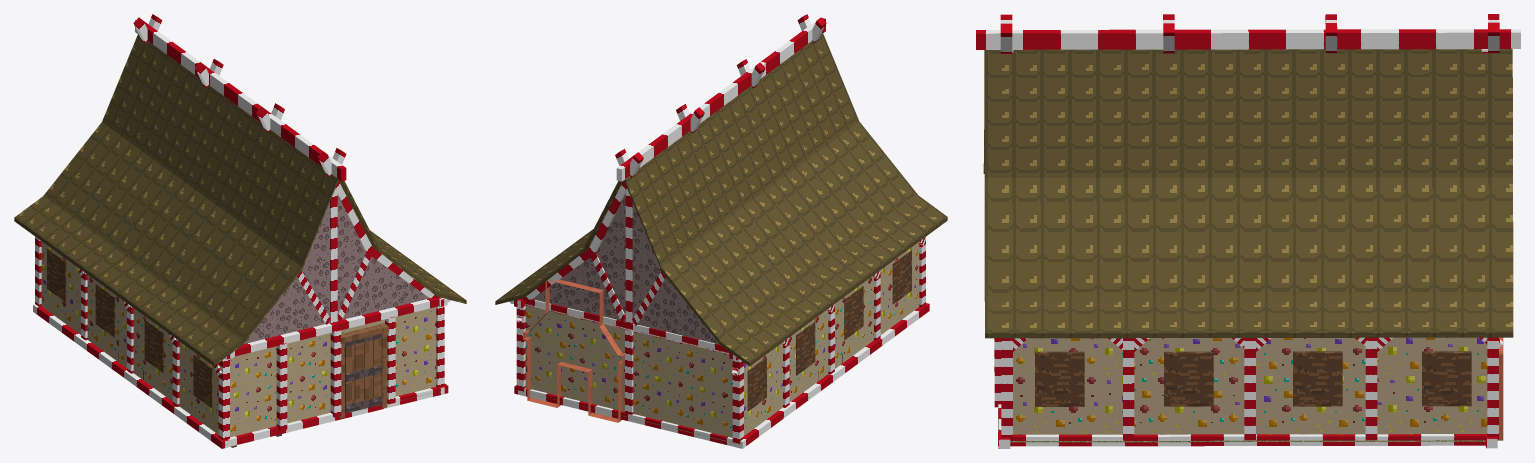
The model's file is SceneCasaBrujaInterior.glb.
3 renders of one model, left to right at view 1: azimuth 30°, elevation 25°; view 2: azimuth 150°, elevation 25°; view 3: azimuth 270°, elevation 25°, orthographic. The views are drawn at different scales.
Visible parts, largest first — view 1: Cube.004, Cube.002, Cube.007, Cube.008, Cube.005, Cube.018, Cube.003, Door, Cube.010, Cube.006, Cube.012, Cube.013 (+2 smaller); view 2: Cube.004, Cube.002, Cube.007, Cube.008, Cube.005, Cube.003, Cube.010, Horno, Cube.012, Cube.006, Cube.016, Cube.017 (+1 smaller); view 3: Cube.004, Cube.002, Cube.008, Cube.005, Cube.007, Cube.010, Cube.003, Cube.001, Cube.018.
Boxes of the visible parts, left/top/right/bottom form: Cube.004: left=14, top=34, right=466, bottom=365; Cube.002: left=41, top=194, right=436, bottom=437; Cube.007: left=35, top=236, right=444, bottom=440; Cube.008: left=47, top=248, right=212, bottom=408; Cube.005: left=135, top=19, right=346, bottom=181; Cube.018: left=276, top=316, right=395, bottom=430; Cube.003: left=133, top=14, right=450, bottom=302; Door: left=345, top=334, right=381, bottom=413; Cube.010: left=33, top=304, right=444, bottom=448; Cube.006: left=224, top=297, right=440, bottom=358; Cube.012: left=228, top=383, right=448, bottom=446; Cube.013: left=339, top=323, right=388, bottom=418; Cube.004: left=495, top=33, right=947, bottom=366; Cube.002: left=525, top=193, right=919, bottom=437; Cube.007: left=516, top=237, right=925, bottom=443; Cube.008: left=747, top=250, right=911, bottom=411; Cube.005: left=616, top=18, right=825, bottom=181; Cube.003: left=509, top=14, right=826, bottom=303; Cube.010: left=518, top=303, right=929, bottom=448; Horno: left=523, top=279, right=624, bottom=422; Cube.012: left=514, top=303, right=926, bottom=446; Cube.006: left=525, top=299, right=729, bottom=352; Cube.016: left=625, top=189, right=632, bottom=323; Cube.017: left=591, top=253, right=665, bottom=325; Cube.004: left=983, top=49, right=1513, bottom=338; Cube.002: left=1013, top=337, right=1487, bottom=434; Cube.008: left=1035, top=351, right=1471, bottom=406; Cube.005: left=976, top=29, right=1520, bottom=49; Cube.007: left=1001, top=337, right=1498, bottom=440; Cube.010: left=998, top=432, right=1487, bottom=446; Cube.003: left=1000, top=14, right=1499, bottom=53; Cube.001: left=998, top=407, right=1485, bottom=442; Cube.018: left=994, top=338, right=1001, bottom=407.
Size of the model in its own units: 7.08 by 7.33 by 9.87.
Materials: 28 (26 with a texture image).
